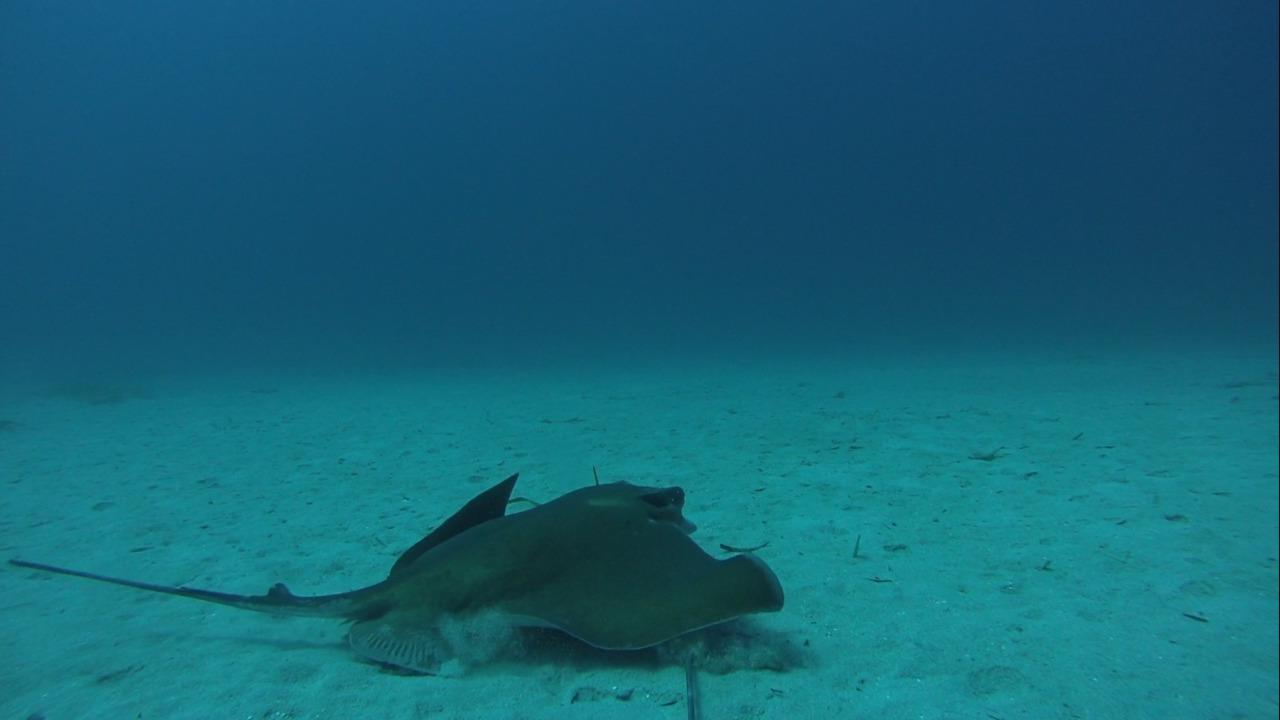myliobatis: (6, 460, 792, 684)
